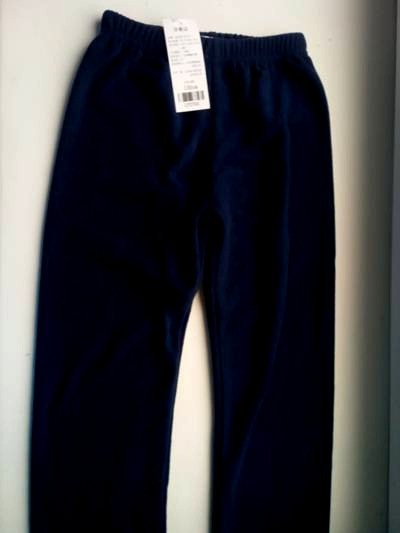Pants: (14, 8, 357, 532)
